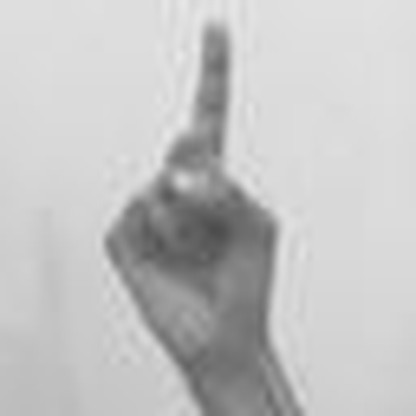d: (95, 18, 291, 360)
